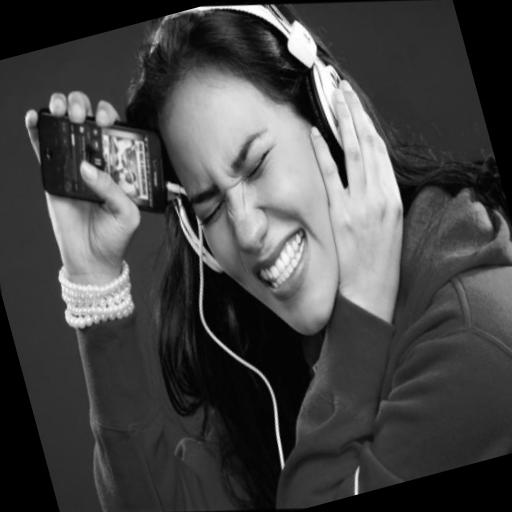phone: (37, 108, 165, 211)
